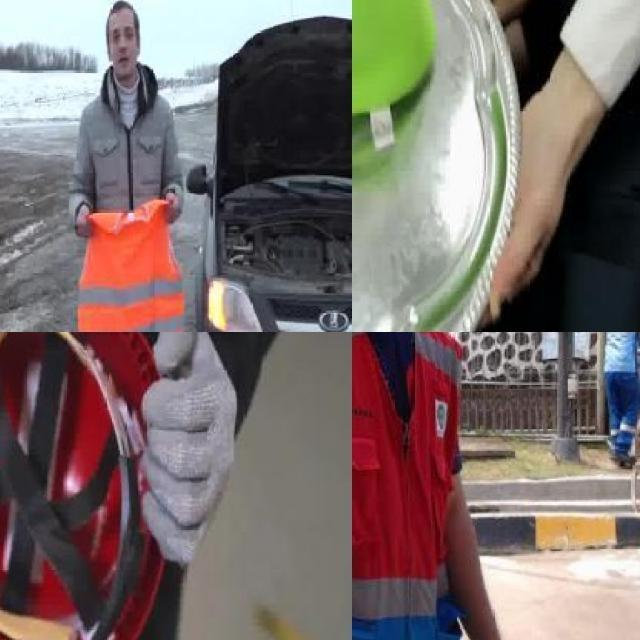apron: (137, 332, 237, 573)
